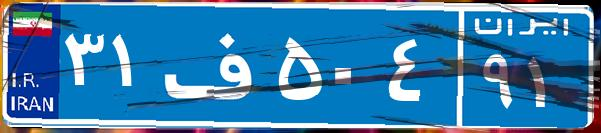0: (330, 28, 385, 110)
1: (110, 28, 158, 105), (525, 38, 570, 115)
3: (57, 26, 110, 107)
4: (385, 28, 445, 110)
5: (273, 28, 330, 110)
9: (475, 38, 525, 113)
ف: (158, 15, 273, 115)
